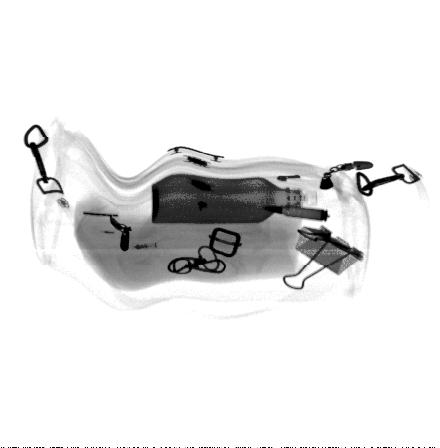Bullet: (259, 203, 331, 222)
